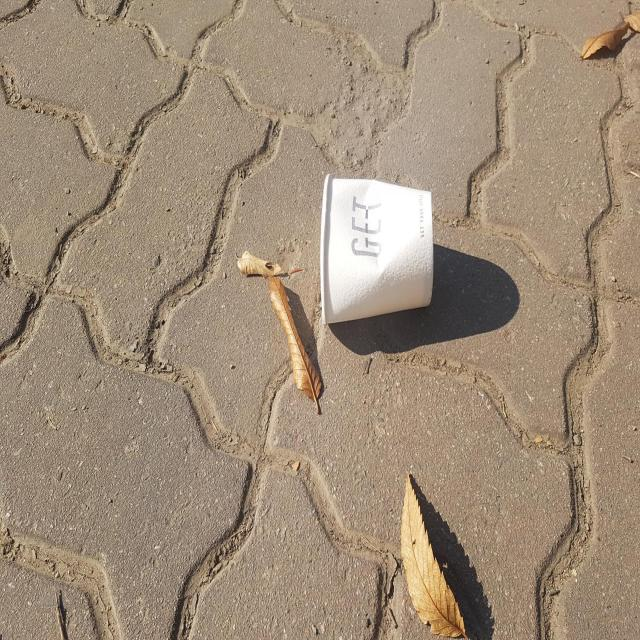paperpack: (321, 174, 434, 324)
